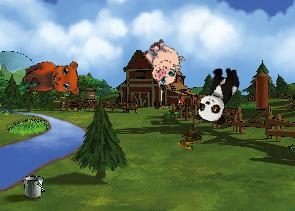bear: (18, 53, 85, 108)
panda: (193, 61, 243, 128)
pig: (134, 34, 190, 90)
